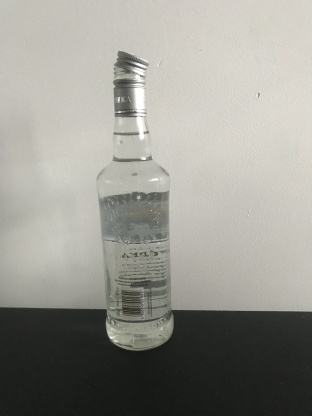nakretka: (111, 48, 150, 118)
